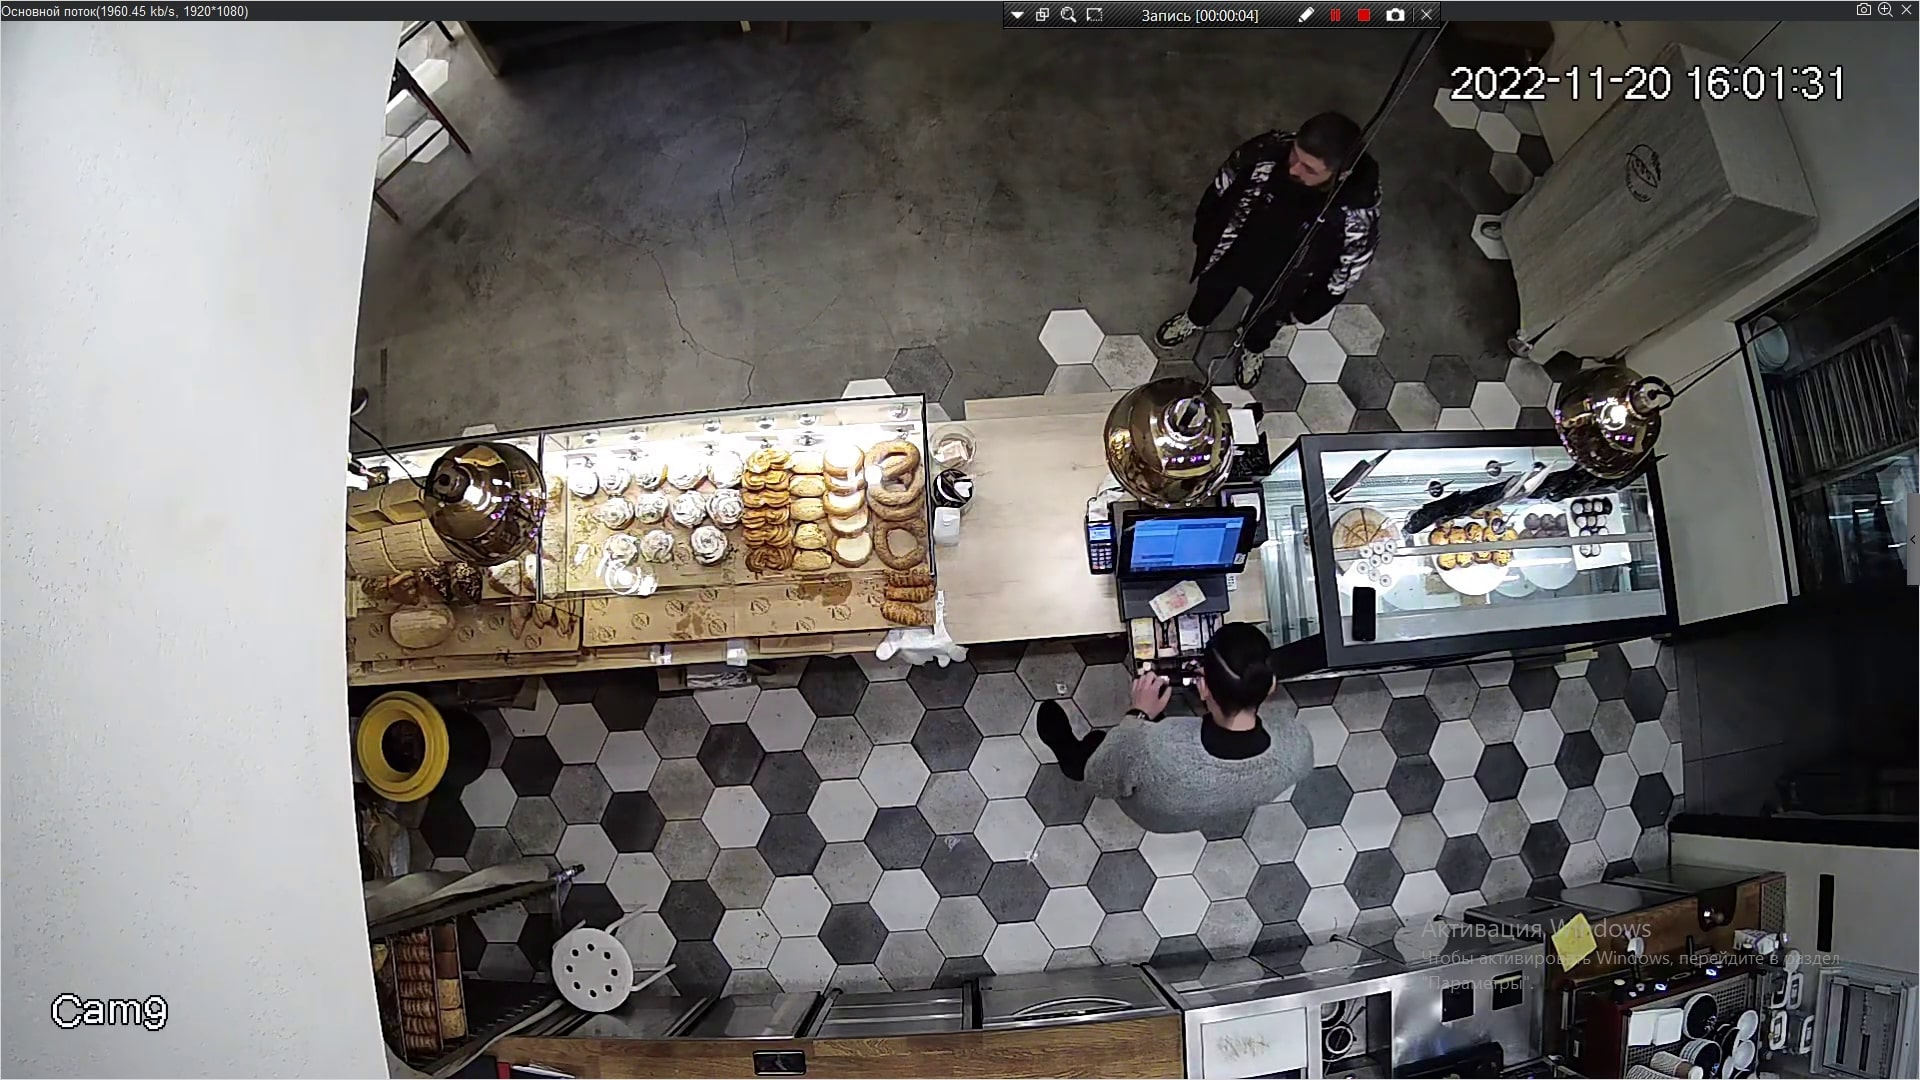barcounter: (362, 411, 1698, 652)
openedcash: (1112, 498, 1280, 705)
person: (1168, 96, 1389, 386), (1039, 632, 1325, 834)
